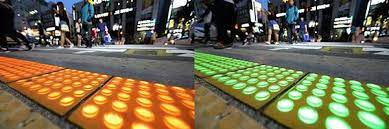guide_blocks: (198, 55, 389, 129), (2, 60, 192, 129)
